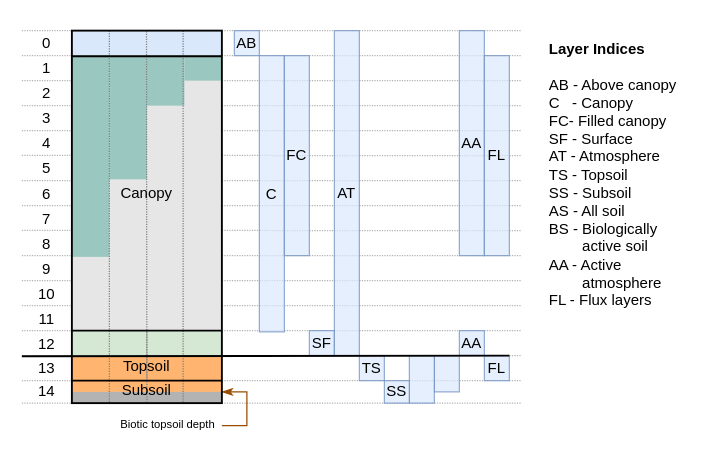
Image size: 719x459. Some labels were removed from this diagram. The shapes that lost their labels are listed below. From the top down, each one's centre as x and y in pixels, then its label:
At [146,42]: "Above".
At [146,342]: "Surface".
At [421,378]: "AS".
At [446,373]: "BS".
